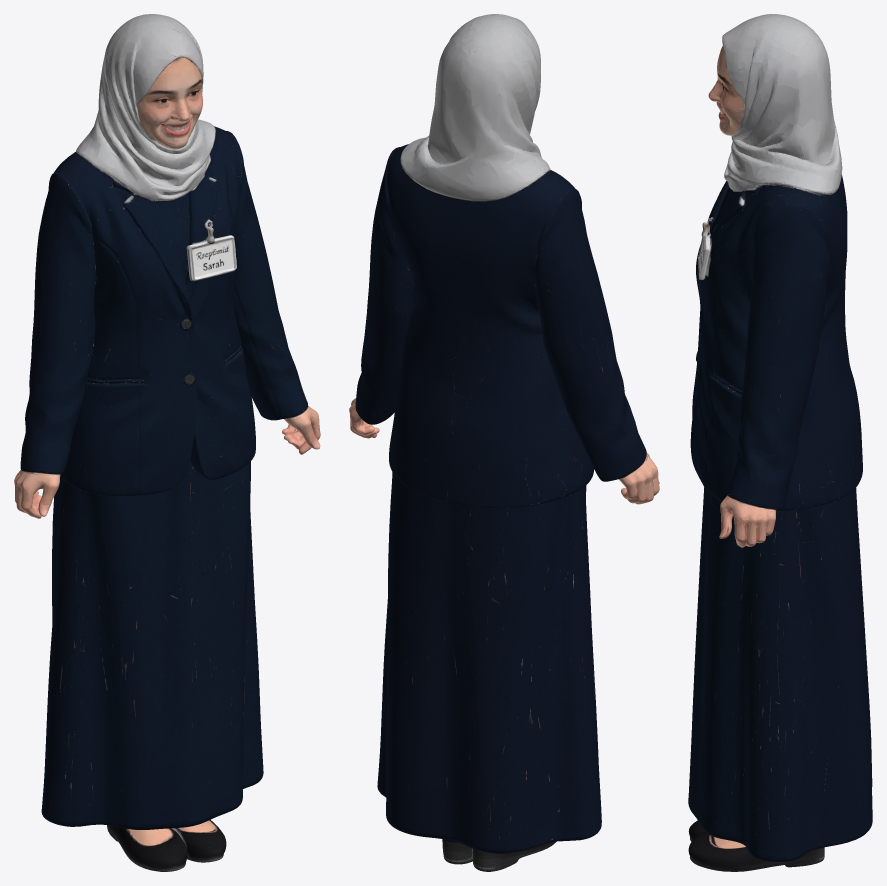
Rendered from receptionist.glb.
3 views of the same model, side by side, from view 1: azimuth 30°, elevation 25°; view 2: azimuth 150°, elevation 25°; view 3: azimuth 270°, elevation 25° (orthographic).
Size of the model in its own units: 0.7231 by 1.9 by 0.3815.
Materials: 1 (1 with a texture image).
